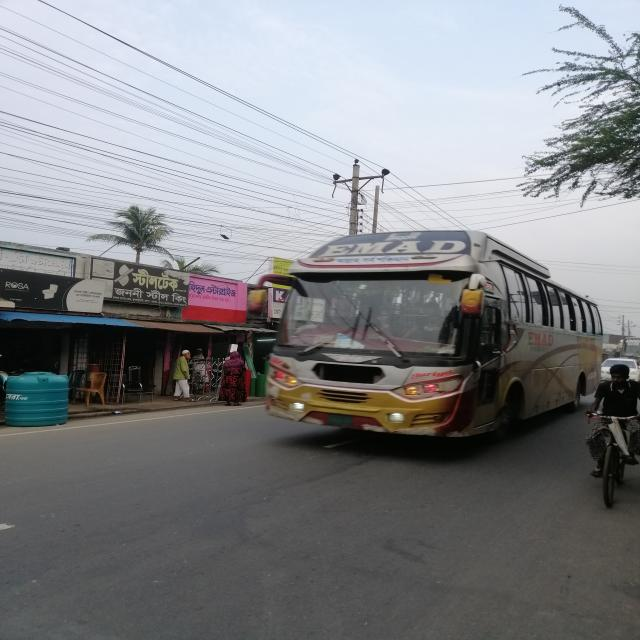Bus: (205, 216, 617, 480)
